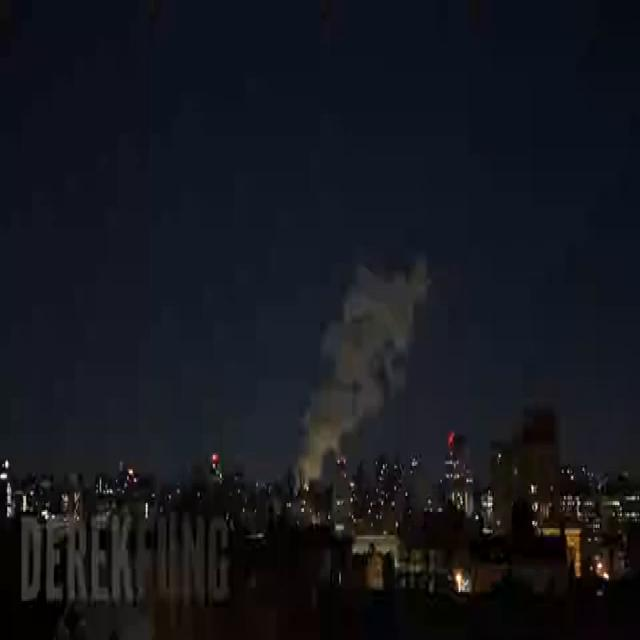smoke: (298, 258, 428, 478)
